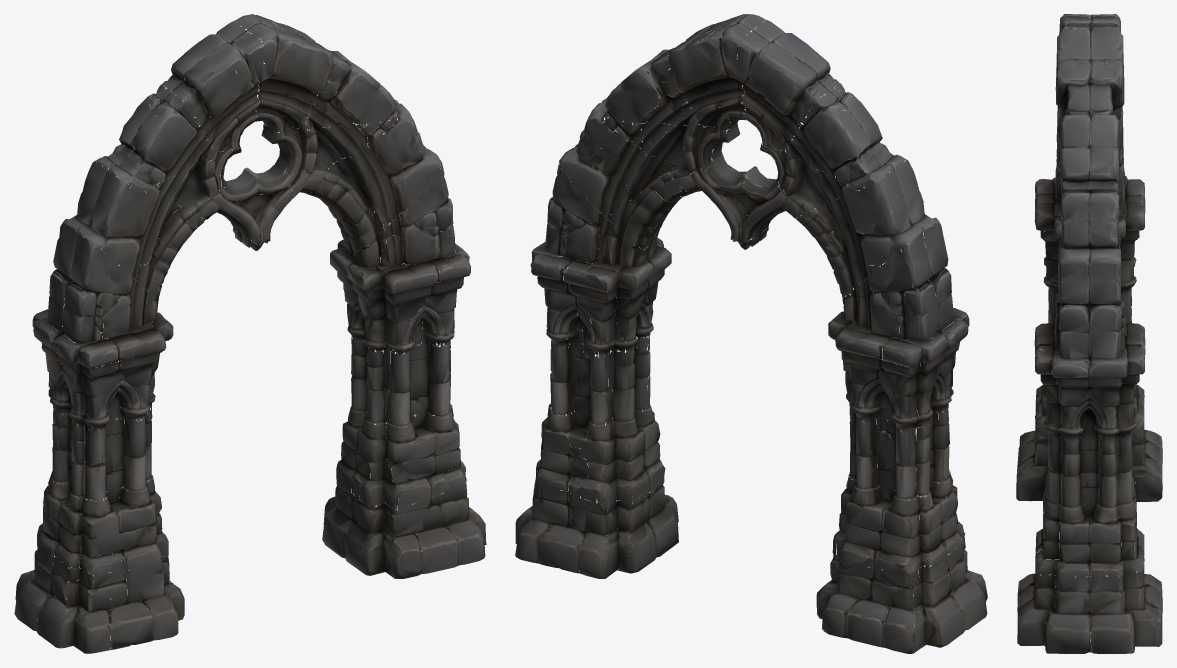
File: tripo-arch-matte.glb
3 renders of one model, left to right at view 1: azimuth 30°, elevation 25°; view 2: azimuth 150°, elevation 25°; view 3: azimuth 270°, elevation 25°, orthographic. The views are drawn at different scales.
Visible parts, largest first — view 1: tripo-arch-matte; view 2: tripo-arch-matte; view 3: tripo-arch-matte.
Part boxes in pixels (left/top/right/bottom): tripo-arch-matte: left=14, top=14, right=486, bottom=653; tripo-arch-matte: left=515, top=14, right=987, bottom=653; tripo-arch-matte: left=1016, top=14, right=1162, bottom=653.
Size of the model in its own units: 4.43 by 5.5 by 1.35.
1 material, 1 textured.
